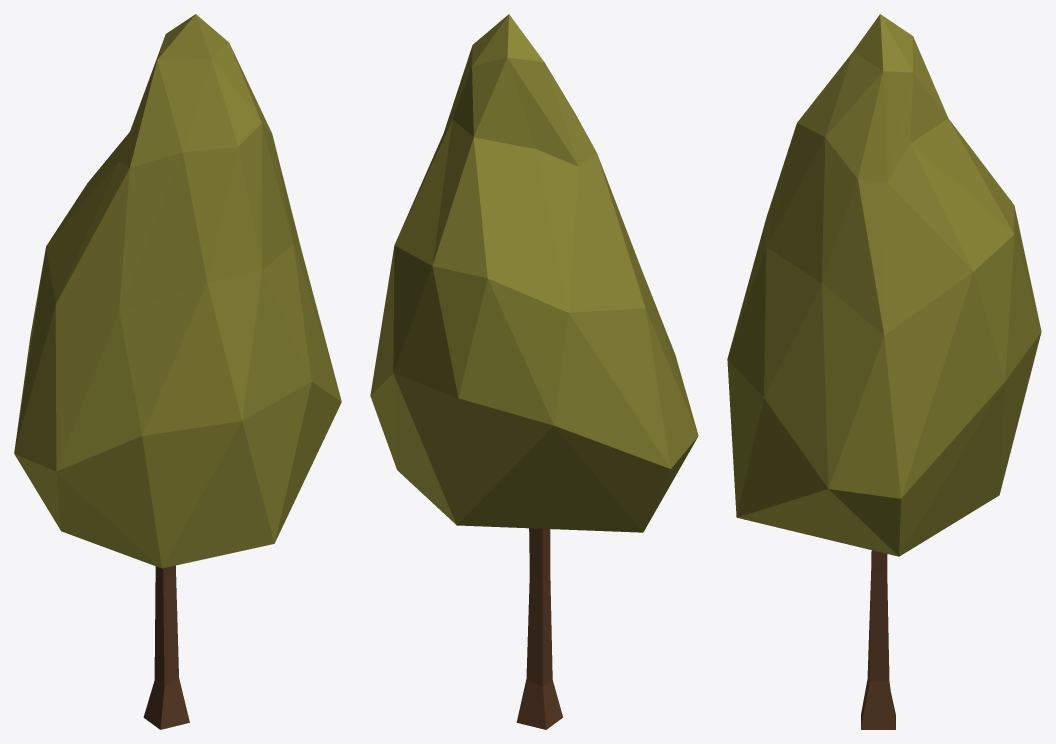
File: Tree_37_Yellow.fbx
The picture shows the model from 3 angles, left to right: view 1: azimuth 30°, elevation 25°; view 2: azimuth 150°, elevation 25°; view 3: azimuth 270°, elevation 25°; orthographic projection. The views are drawn at different scales.
Visible parts, largest first — view 1: Tree_37_Yellow_Part_1, Tree_37_Yellow_Part_2; view 2: Tree_37_Yellow_Part_1, Tree_37_Yellow_Part_2; view 3: Tree_37_Yellow_Part_1, Tree_37_Yellow_Part_2.
Part boxes in pixels (x1,y1,x2,y2): Tree_37_Yellow_Part_1: [14, 14, 341, 568]; Tree_37_Yellow_Part_2: [143, 565, 189, 729]; Tree_37_Yellow_Part_1: [370, 14, 698, 532]; Tree_37_Yellow_Part_2: [516, 528, 562, 729]; Tree_37_Yellow_Part_1: [727, 14, 1041, 556]; Tree_37_Yellow_Part_2: [861, 550, 895, 729].
Bounding box in the file's own units: 358 × 797 × 314.
